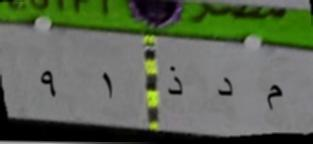1: (97, 66, 121, 108)
9: (34, 63, 62, 108)
daal: (214, 72, 237, 105)
meem: (261, 78, 288, 118)
zaal: (160, 60, 190, 107)
